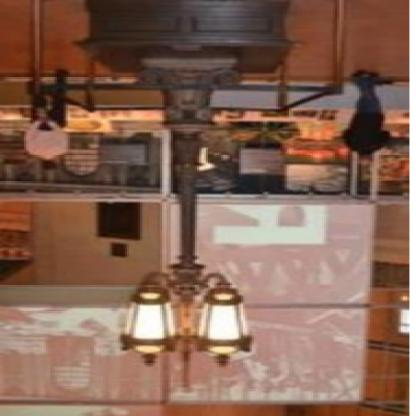Streetlights 1: (104, 54, 274, 374)
